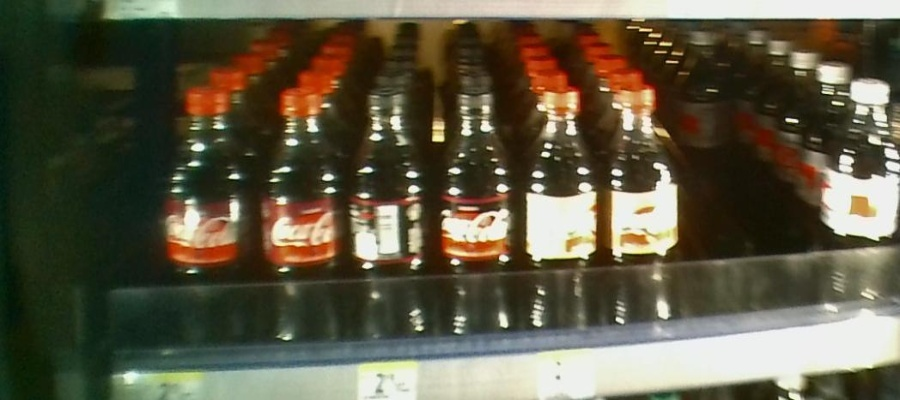bottle: (160, 82, 253, 354), (255, 80, 342, 343), (346, 76, 428, 346), (432, 89, 515, 341), (516, 82, 595, 335), (596, 85, 675, 329), (822, 77, 899, 312), (681, 31, 734, 162)
